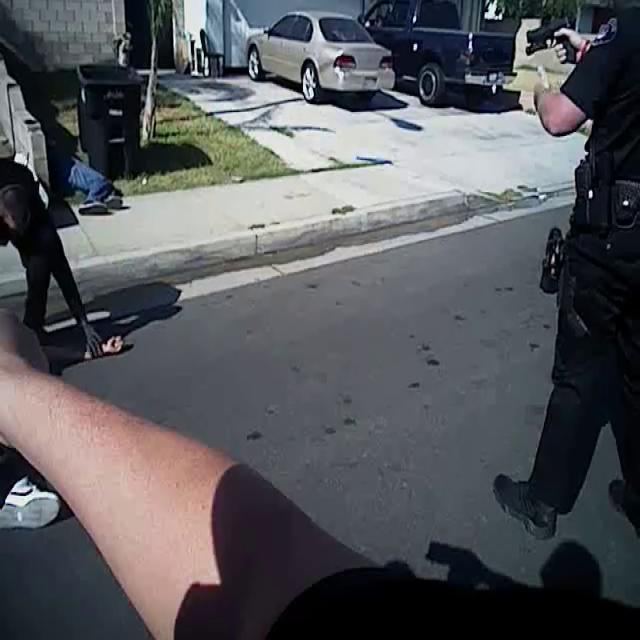gun: (516, 6, 590, 80)
